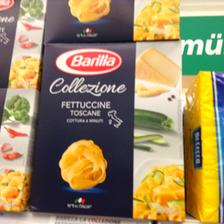Nudeln: (28, 40, 184, 222)
